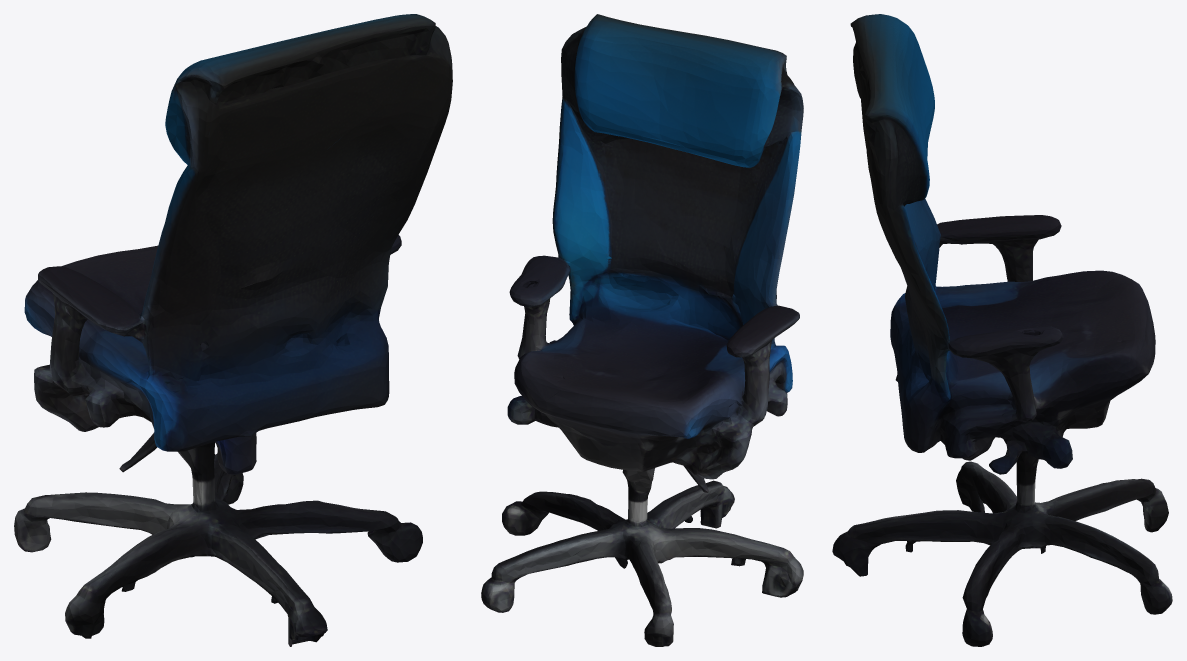
The model's file is Chair6.glb.
The picture shows the model from 3 angles, left to right: view 1: azimuth 30°, elevation 25°; view 2: azimuth 150°, elevation 25°; view 3: azimuth 270°, elevation 25°; orthographic projection. The views are drawn at different scales.
Parts seen in each view (by area): view 1: world; view 2: world; view 3: world.
Boxes of the visible parts, box(x1,y1,x2,y2) form: world: box(14, 14, 452, 646); world: box(481, 14, 803, 646); world: box(832, 14, 1172, 646).
Bounding box in the file's own units: 0.6293 × 1 × 0.5903.
1 material, 1 textured.
